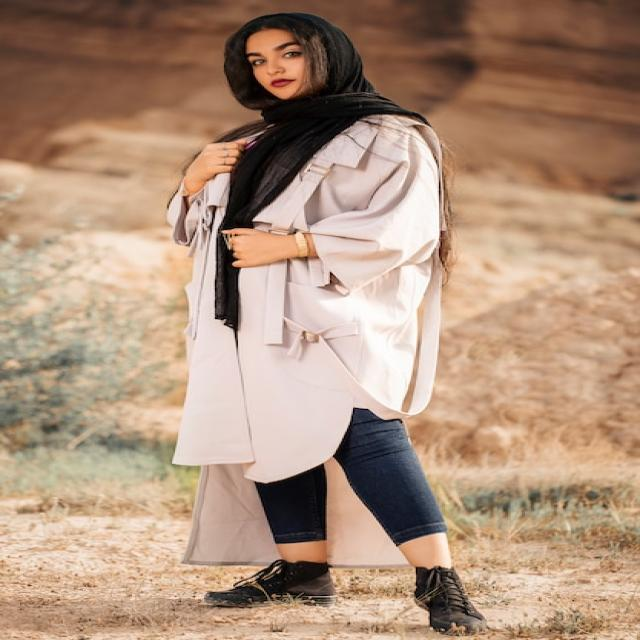Person: (167, 12, 485, 632)
